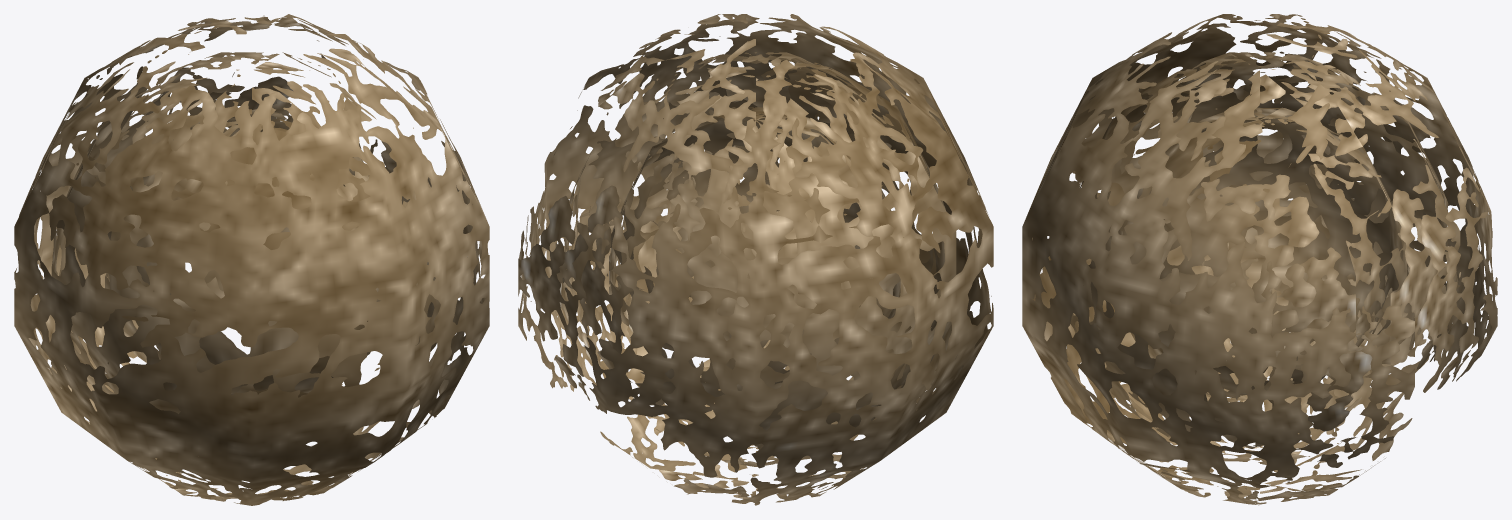
The model's file is DG_Bush_0.fbx.
3 views of the same model, side by side, from view 1: azimuth 30°, elevation 25°; view 2: azimuth 150°, elevation 25°; view 3: azimuth 270°, elevation 25° (orthographic).
Parts seen in each view (by area): view 1: DG_Bush_0; view 2: DG_Bush_0; view 3: DG_Bush_0.
Part boxes in pixels (bbox=[...]): DG_Bush_0: bbox=[14, 14, 489, 505]; DG_Bush_0: bbox=[518, 14, 993, 505]; DG_Bush_0: bbox=[1022, 14, 1497, 505].
Bounding box in the file's own units: 1040 × 1100 × 1056.
